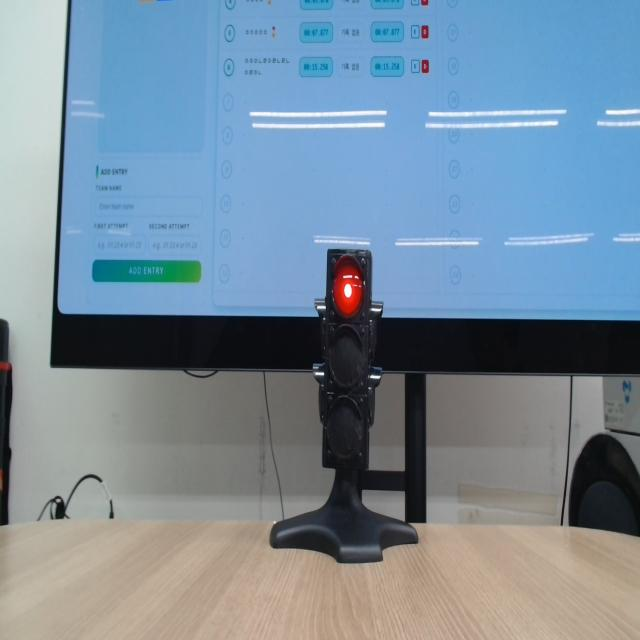red_light: (333, 256, 362, 318)
